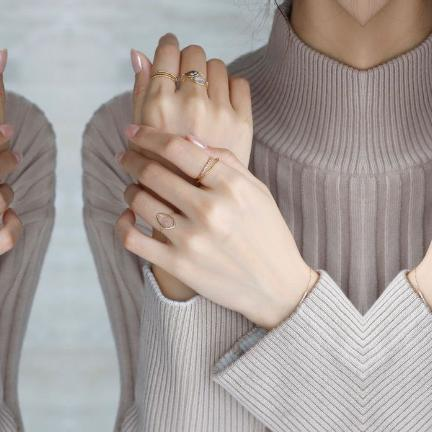Nail: (186, 133, 208, 148), (129, 47, 141, 74), (124, 123, 138, 138), (0, 47, 7, 74), (0, 123, 12, 138), (114, 150, 124, 163), (12, 150, 22, 163)
